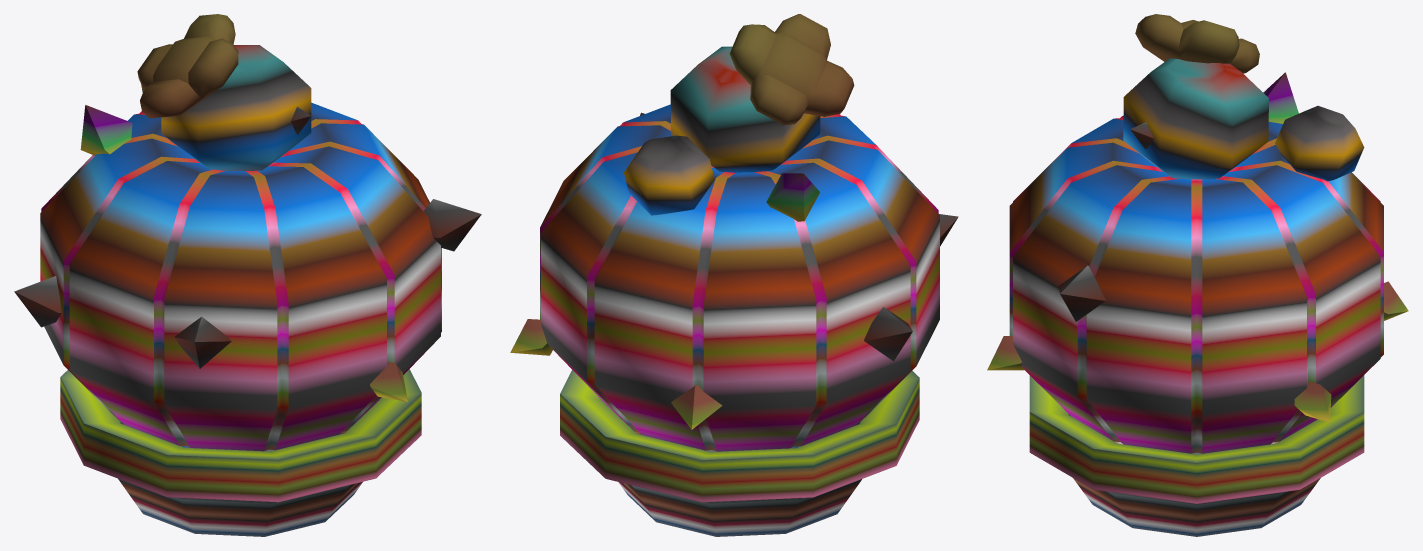
File: Plant_02.fbx
3 views of the same model, side by side, from view 1: azimuth 30°, elevation 25°; view 2: azimuth 150°, elevation 25°; view 3: azimuth 270°, elevation 25° (orthographic). The views are drawn at different scales.
Parts seen in each view (by area): view 1: Plant_02; view 2: Plant_02; view 3: Plant_02.
Boxes of the visible parts, x1,y1,x2,y2 form: Plant_02: [14, 14, 481, 536]; Plant_02: [510, 14, 958, 536]; Plant_02: [987, 14, 1408, 536].
Bounding box in the file's own units: 0.5892 × 0.7156 × 0.593.
